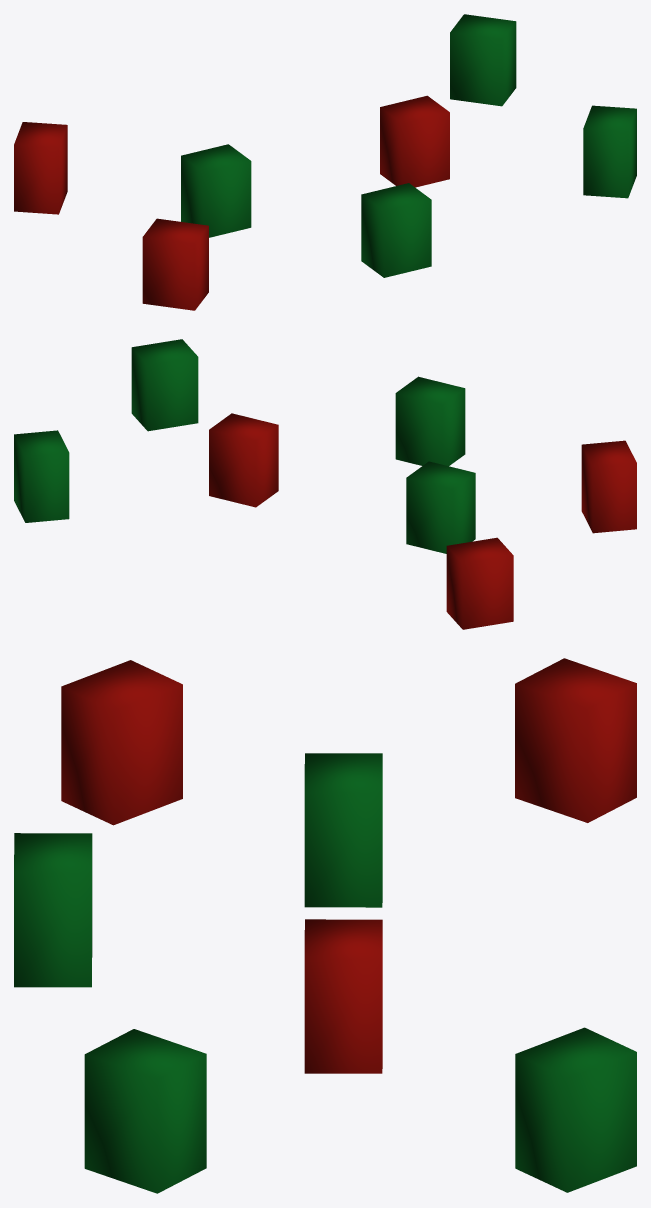
Rendered from CubesBR.dae.
3 views of the same model, one above another, from view 1: azimuth 30°, elevation 25°; view 2: azimuth 150°, elevation 25°; view 3: azimuth 270°, elevation 25° (orthographic). The views are drawn at different scales.
Visible parts, largest first — view 1: CubesBR; view 2: CubesBR; view 3: CubesBR.
Part boxes in pixels (<box>): CubesBR: <box>14,14,636,310</box>; CubesBR: <box>14,339,636,629</box>; CubesBR: <box>14,658,636,1193</box>.
Bounding box in the file's own units: 4.19 × 2.62 × 0.5313.
2 materials, 2 textured.
